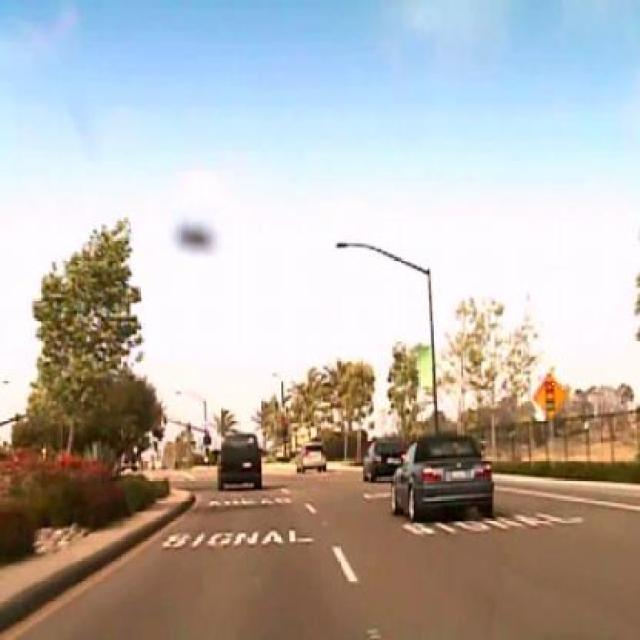signalAhead: (532, 372, 566, 419)
